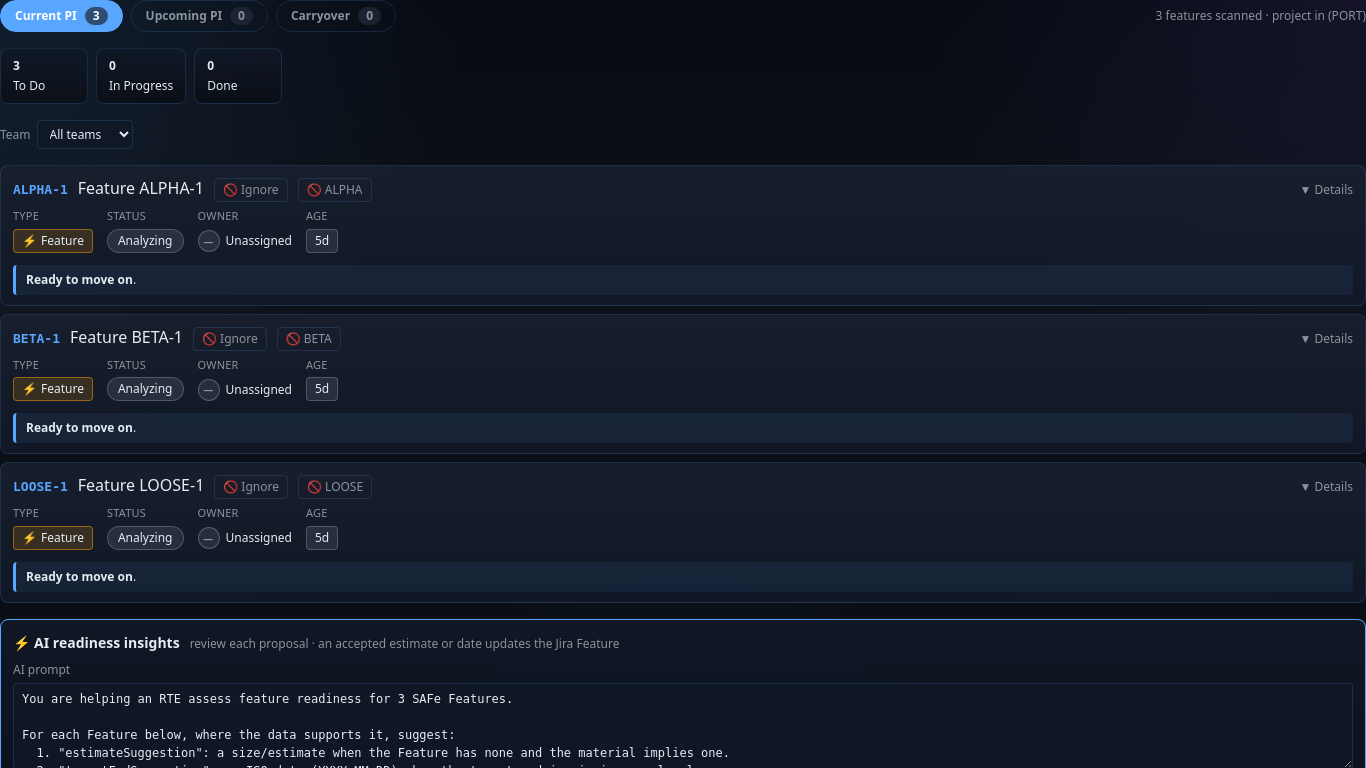
Test: ReadinessPanel › shows only features carrying no team label under Unlabeled
The width and height of the screenshot is (1366, 768).
Select "Unlabeled" in the dropdown named "Filter by team" at [85, 134], box [37,120,133,149]
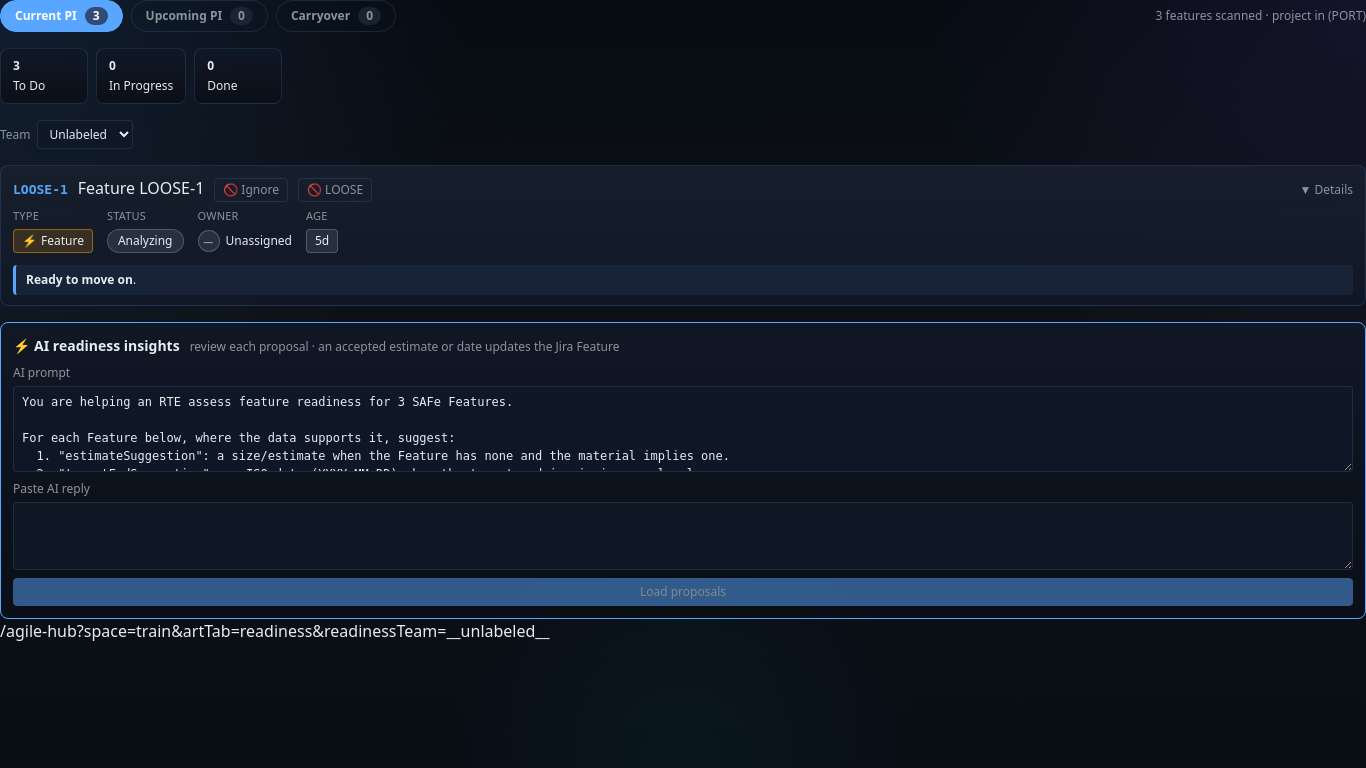
expect the link "LOOSE-1" is shown: met, box [13,180,68,200]
expect the link "ALPHA-1" is gone: met
expect the link "BETA-1" is gone: met
